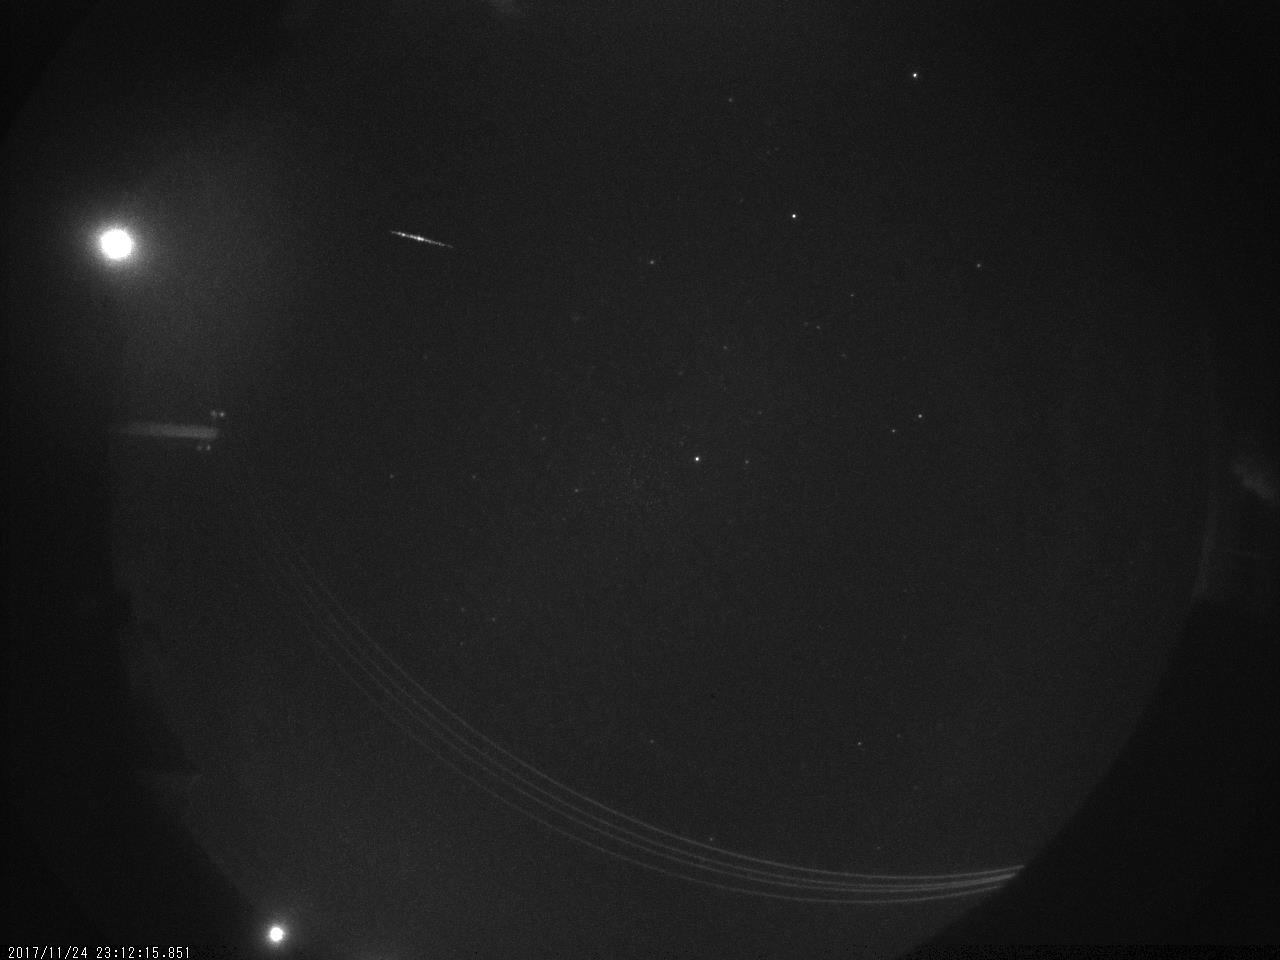meteor: (376, 224, 459, 265)
